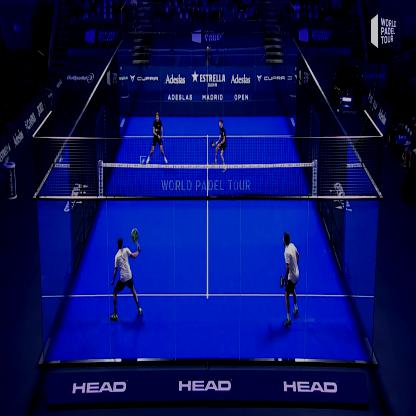ball: (140, 156, 147, 167)
